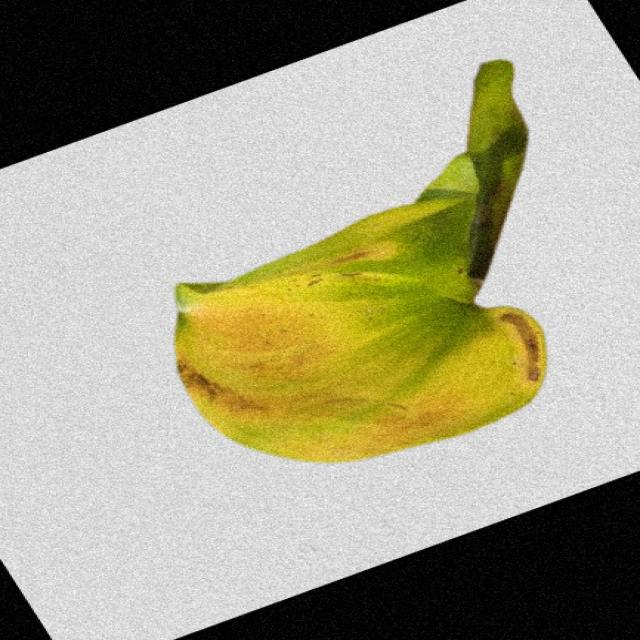daun berpenyakit kuning: (175, 61, 545, 462)
